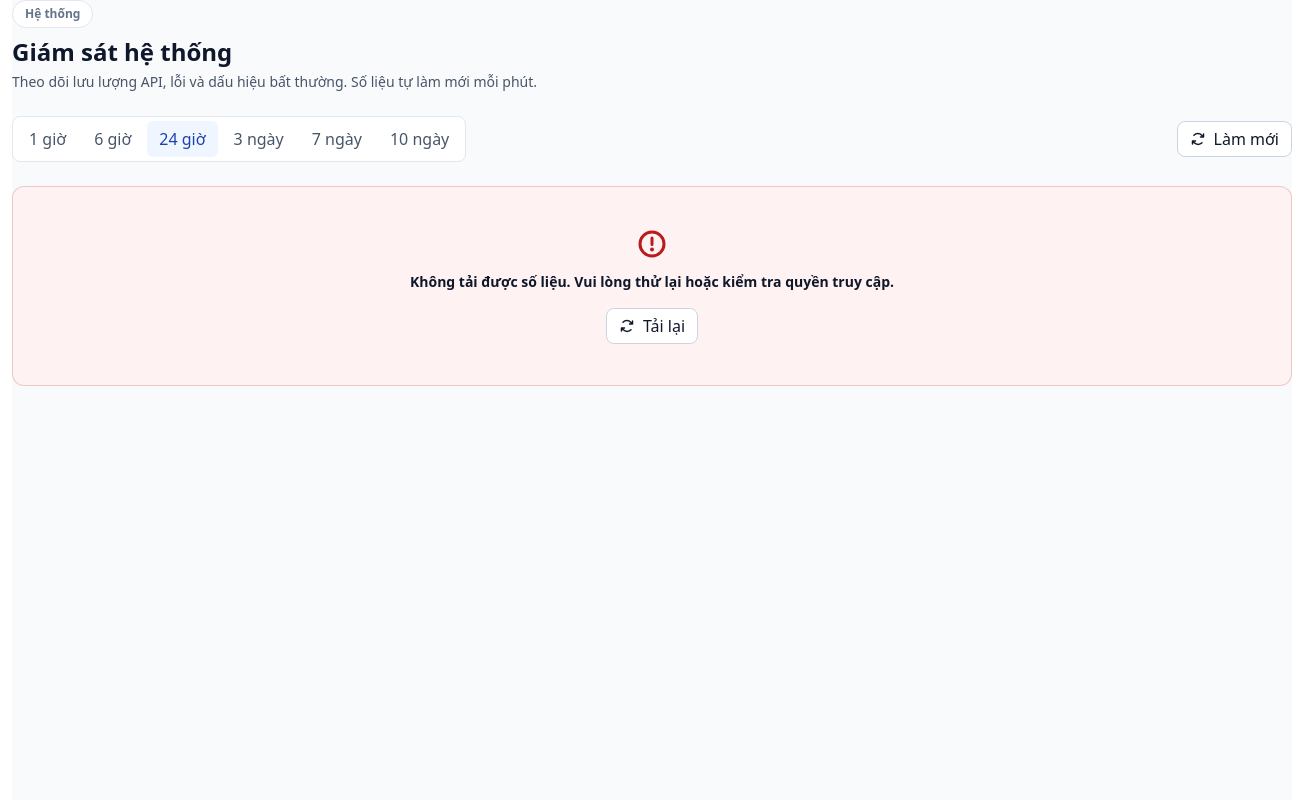
Test: MonitoringView › hiện lỗi và cho tải lại khi không lấy được số liệu
Click the button "Tải lại": point(652, 326) [606,308,698,344]
(page scrolled)
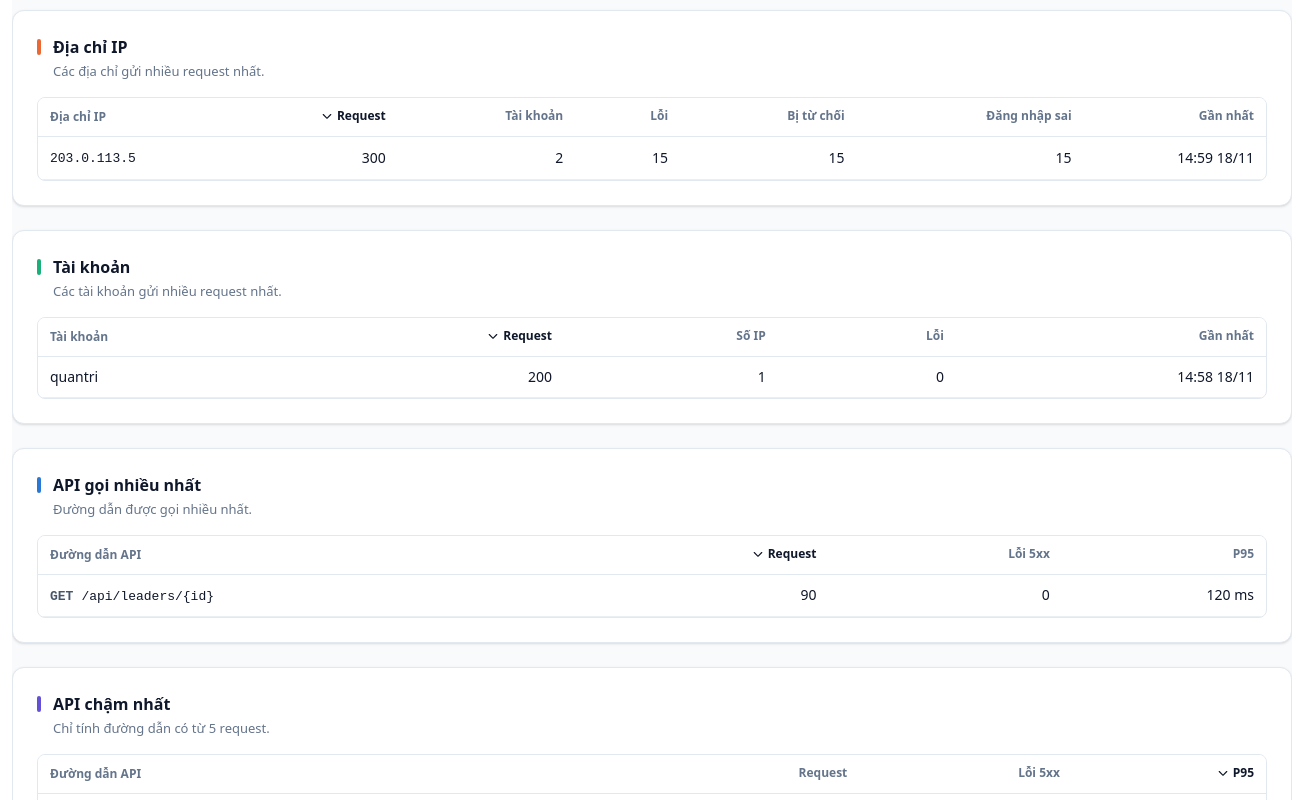
Now the text "quantri" is shown, box [38,357,291,398]
